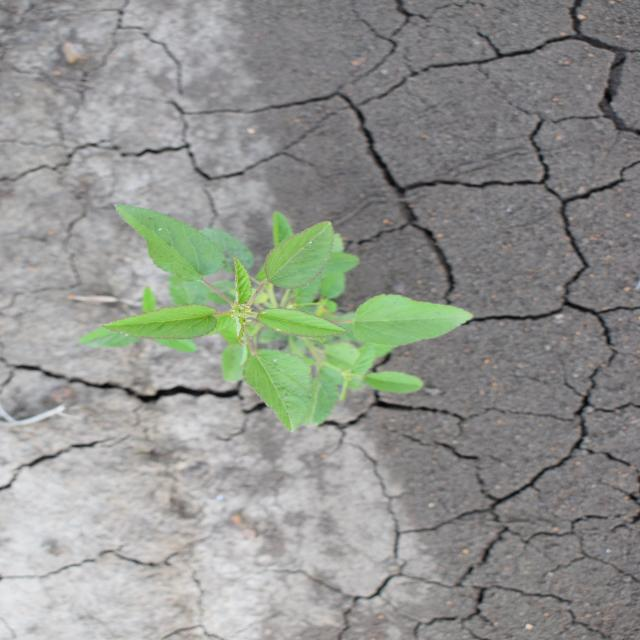PricklySida: (75, 201, 480, 436)
